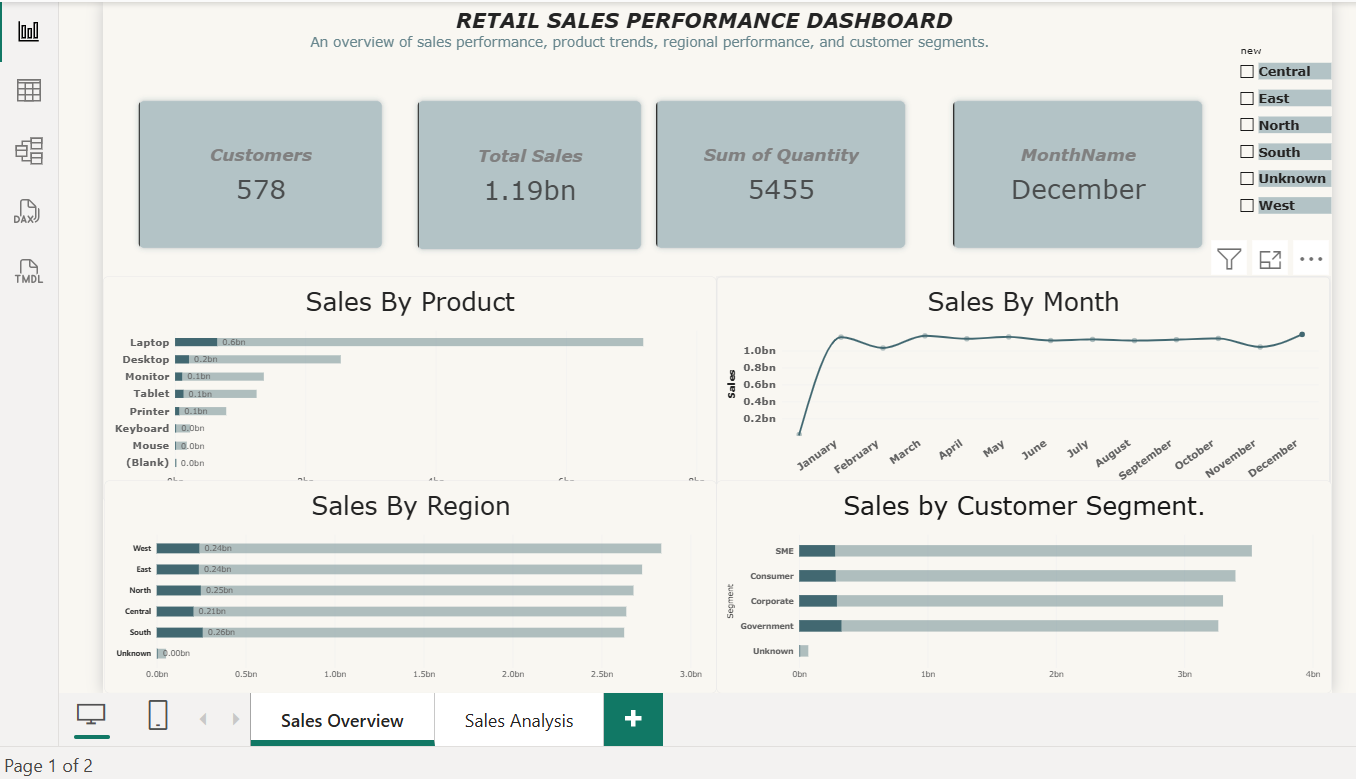

Layout of this report page (visuals, bound fields, positions):
{"tool":"powerbi","page":{"name":"Sales Overview","canvas":[1920,1080],"ordinal":0},"visuals":[{"type":"cardVisual","fields":{"Data":["Sum(retail_sales_raw. Sales )"]},"box":[480.6,143,372.8,255.5],"z":0},{"type":"cardVisual","fields":{"Data":["Sum(retail_sales_raw.Quantity)"]},"box":[853.4,143,412.6,253.2],"z":1000},{"type":"cardVisual","fields":{"Data":["Count(retail_sales_raw.CustomerID)"]},"box":[44.5,143,403.3,253.2],"z":2000},{"type":"lineChart","title":"  Sales By Month","fields":{"Category":["retail_sales_raw.MonthName"],"Y":["Sum(retail_sales_raw. Sales )"]},"box":[958.9,429,958.9,351.7],"z":3000},{"type":"clusteredBarChart","title":"Sales By Product","fields":{"Category":["retail_sales_raw.Product"],"Y":["Sum(retail_sales_raw. Sales )"]},"box":[0,429,958.9,351.7],"z":4000},{"type":"clusteredBarChart","title":"Sales By Region","fields":{"Category":["retail_sales_raw.new"],"Y":["Sum(retail_sales_raw. Sales )"]},"box":[2.3,747.9,956.5,332.9],"z":5000},{"type":"clusteredBarChart","title":"Sales by Customer Segment.","fields":{"Category":["retail_sales_raw.Segment"],"Y":["Sum(retail_sales_raw. Sales )"]},"box":[958.9,747.9,961.2,332.9],"z":6000},{"type":"slicer","fields":{"Values":["retail_sales_raw.new"]},"box":[1770.1,65.6,150,330.6],"z":7000},{"type":"cardVisual","fields":{"Data":["Min(retail_sales_raw.MonthName)"]},"box":[1317.6,143,412.6,253.2],"z":8000},{"type":"textbox","box":[0,0,1753.7,65.6],"z":9000},{"type":"textbox","box":[61,49.2,1587.2,93.8],"z":9001}]}

Visuals, with their boxes on the page's 1920x1080 design canvas (x1, y1, x2, y2). These are canvas units, not pixel positions in the 1356x779 screenshot, which may show the page scaled, cropped or inside an application window:
cardVisual - Sum(retail_sales_raw. Sales ): bbox=[481, 143, 853, 398]
cardVisual - Sum(retail_sales_raw.Quantity): bbox=[853, 143, 1266, 396]
cardVisual - Count(retail_sales_raw.CustomerID): bbox=[44, 143, 448, 396]
"  Sales By Month" lineChart: bbox=[959, 429, 1918, 781]
"Sales By Product" clusteredBarChart: bbox=[0, 429, 959, 781]
"Sales By Region" clusteredBarChart: bbox=[2, 748, 959, 1081]
"Sales by Customer Segment." clusteredBarChart: bbox=[959, 748, 1920, 1081]
slicer - retail_sales_raw.new: bbox=[1770, 66, 1920, 396]
cardVisual - Min(retail_sales_raw.MonthName): bbox=[1318, 143, 1730, 396]
textbox: bbox=[0, 0, 1754, 66]
textbox: bbox=[61, 49, 1648, 143]
